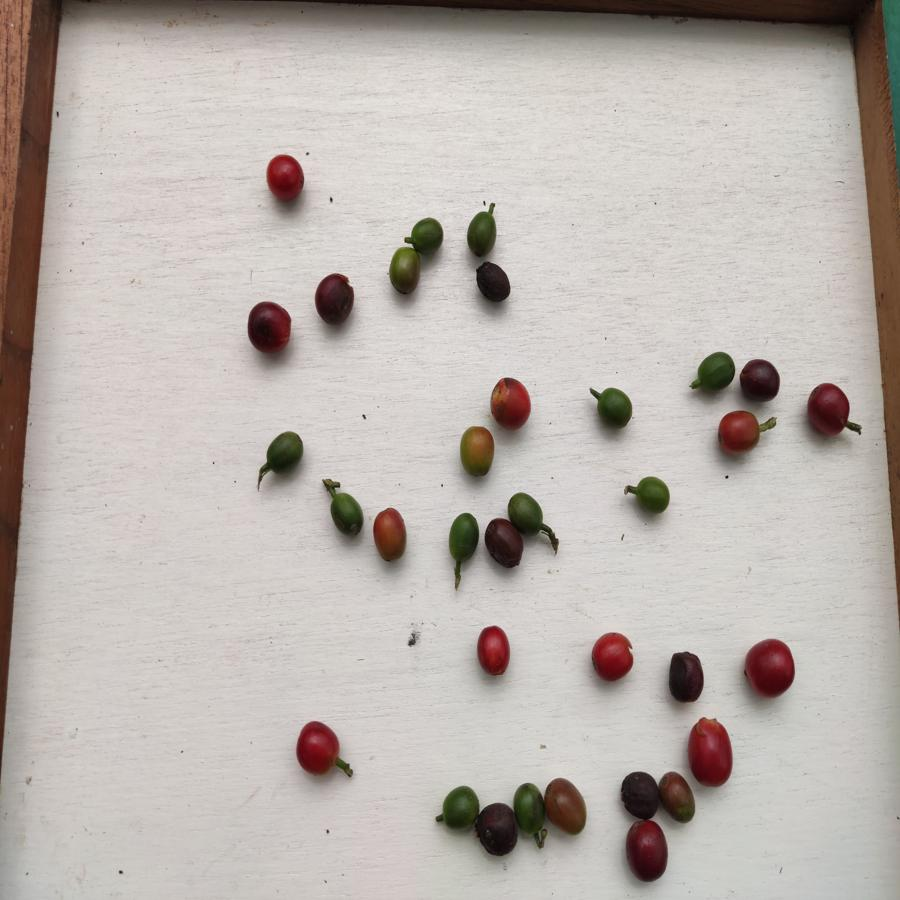Inmaduro: (265, 427, 305, 478), (514, 780, 547, 841), (694, 349, 739, 393), (593, 383, 636, 429), (507, 488, 547, 537), (440, 784, 479, 833), (411, 210, 449, 259), (463, 207, 501, 255), (330, 490, 367, 539), (633, 471, 673, 516), (444, 511, 479, 562), (389, 245, 424, 296)
Maduro: (743, 636, 801, 701), (685, 716, 738, 787), (293, 715, 339, 783), (487, 375, 535, 430), (471, 624, 515, 681), (591, 631, 637, 684), (265, 152, 307, 203), (718, 409, 760, 457)
Pinton: (543, 775, 593, 836), (372, 505, 412, 563), (458, 426, 494, 476)
Sobremaduro: (241, 296, 296, 355), (804, 380, 853, 440), (663, 647, 707, 707), (628, 819, 669, 883), (481, 516, 525, 574), (475, 802, 520, 857), (312, 273, 359, 322), (659, 765, 696, 827), (471, 262, 517, 309), (617, 769, 659, 819), (740, 355, 782, 402)
